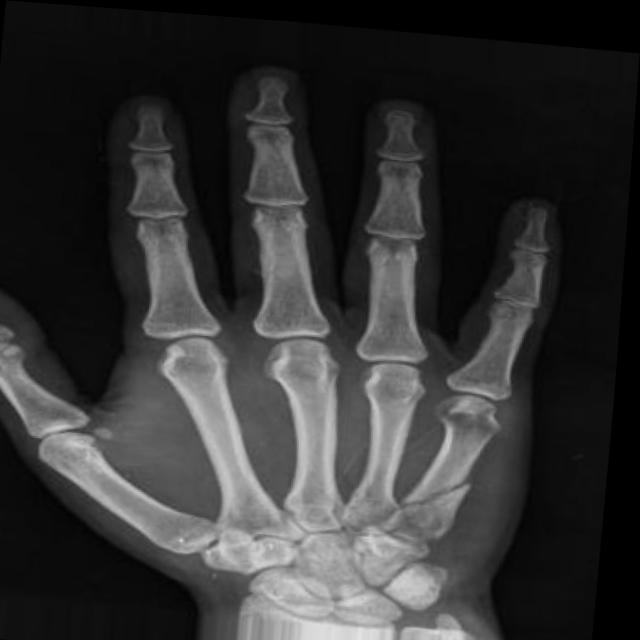fracture: (402, 460, 490, 514)
